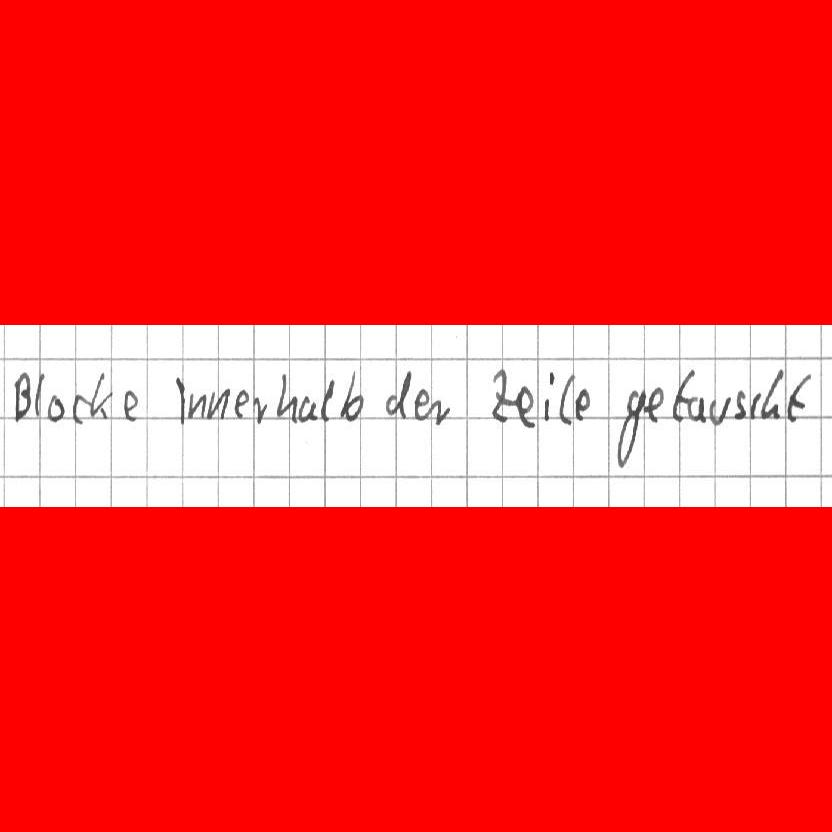Char: (611, 388, 646, 472), (382, 368, 413, 420), (784, 371, 814, 423), (337, 369, 366, 422), (489, 367, 515, 424), (89, 371, 115, 422), (761, 366, 785, 421), (670, 367, 693, 423), (276, 372, 299, 425), (512, 382, 535, 431), (12, 368, 31, 425), (557, 371, 575, 427), (642, 383, 666, 425), (206, 385, 232, 421), (708, 394, 732, 427), (431, 396, 455, 427), (121, 388, 141, 425), (231, 383, 251, 420), (318, 377, 334, 422), (572, 386, 591, 423), (411, 386, 431, 421), (686, 390, 706, 424), (33, 371, 47, 417), (297, 392, 317, 423), (249, 395, 269, 425), (542, 371, 554, 421), (732, 387, 749, 422), (46, 391, 65, 422), (72, 391, 89, 425), (174, 375, 185, 426), (187, 392, 207, 420), (746, 389, 762, 421)
